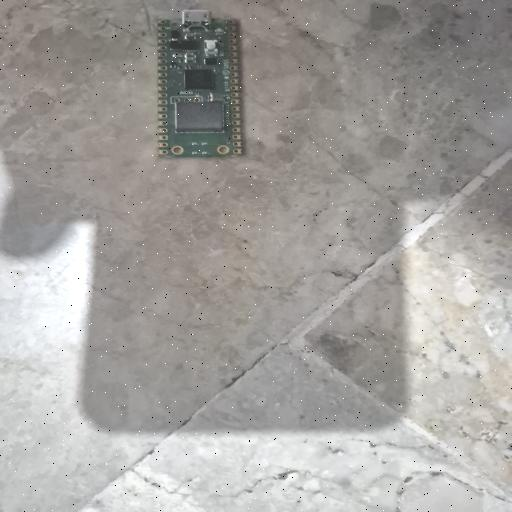raspberry-pi-pico-w: (157, 10, 243, 159)
